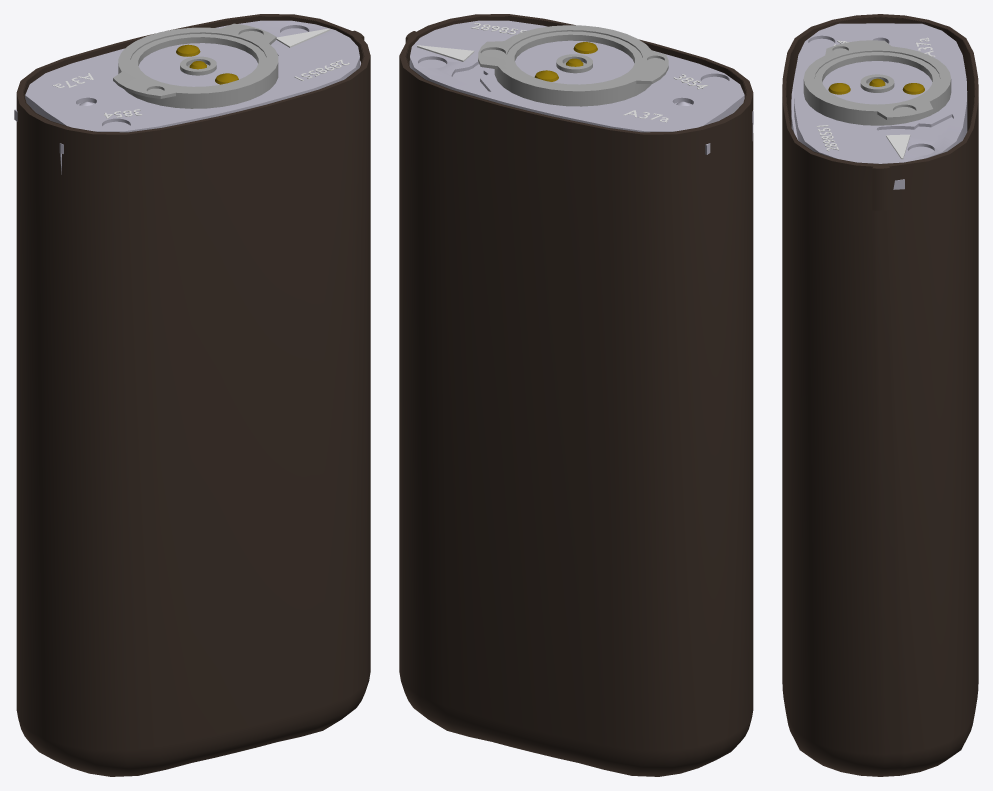
The model's file is nucleus7_battery_disposable_brown.glb.
3 views of the same model, side by side, from view 1: azimuth 30°, elevation 25°; view 2: azimuth 150°, elevation 25°; view 3: azimuth 270°, elevation 25° (orthographic). The views are drawn at different scales.
Visible parts, largest first — view 1: Casing for Battery, Battery Module for Charging; view 2: Casing for Battery, Battery Module for Charging; view 3: Casing for Battery, Battery Module for Charging.
Boxes of the visible parts, x1=… form: Casing for Battery: x1=16, y1=14, x2=370, y2=776; Battery Module for Charging: x1=14, y1=20, x2=360, y2=174; Casing for Battery: x1=399, y1=14, x2=753, y2=776; Battery Module for Charging: x1=409, y1=20, x2=753, y2=154; Casing for Battery: x1=782, y1=14, x2=978, y2=776; Battery Module for Charging: x1=791, y1=23, x2=967, y2=189.
Bounding box in the file's own units: 0.0483 × 0.0945 × 0.026.
